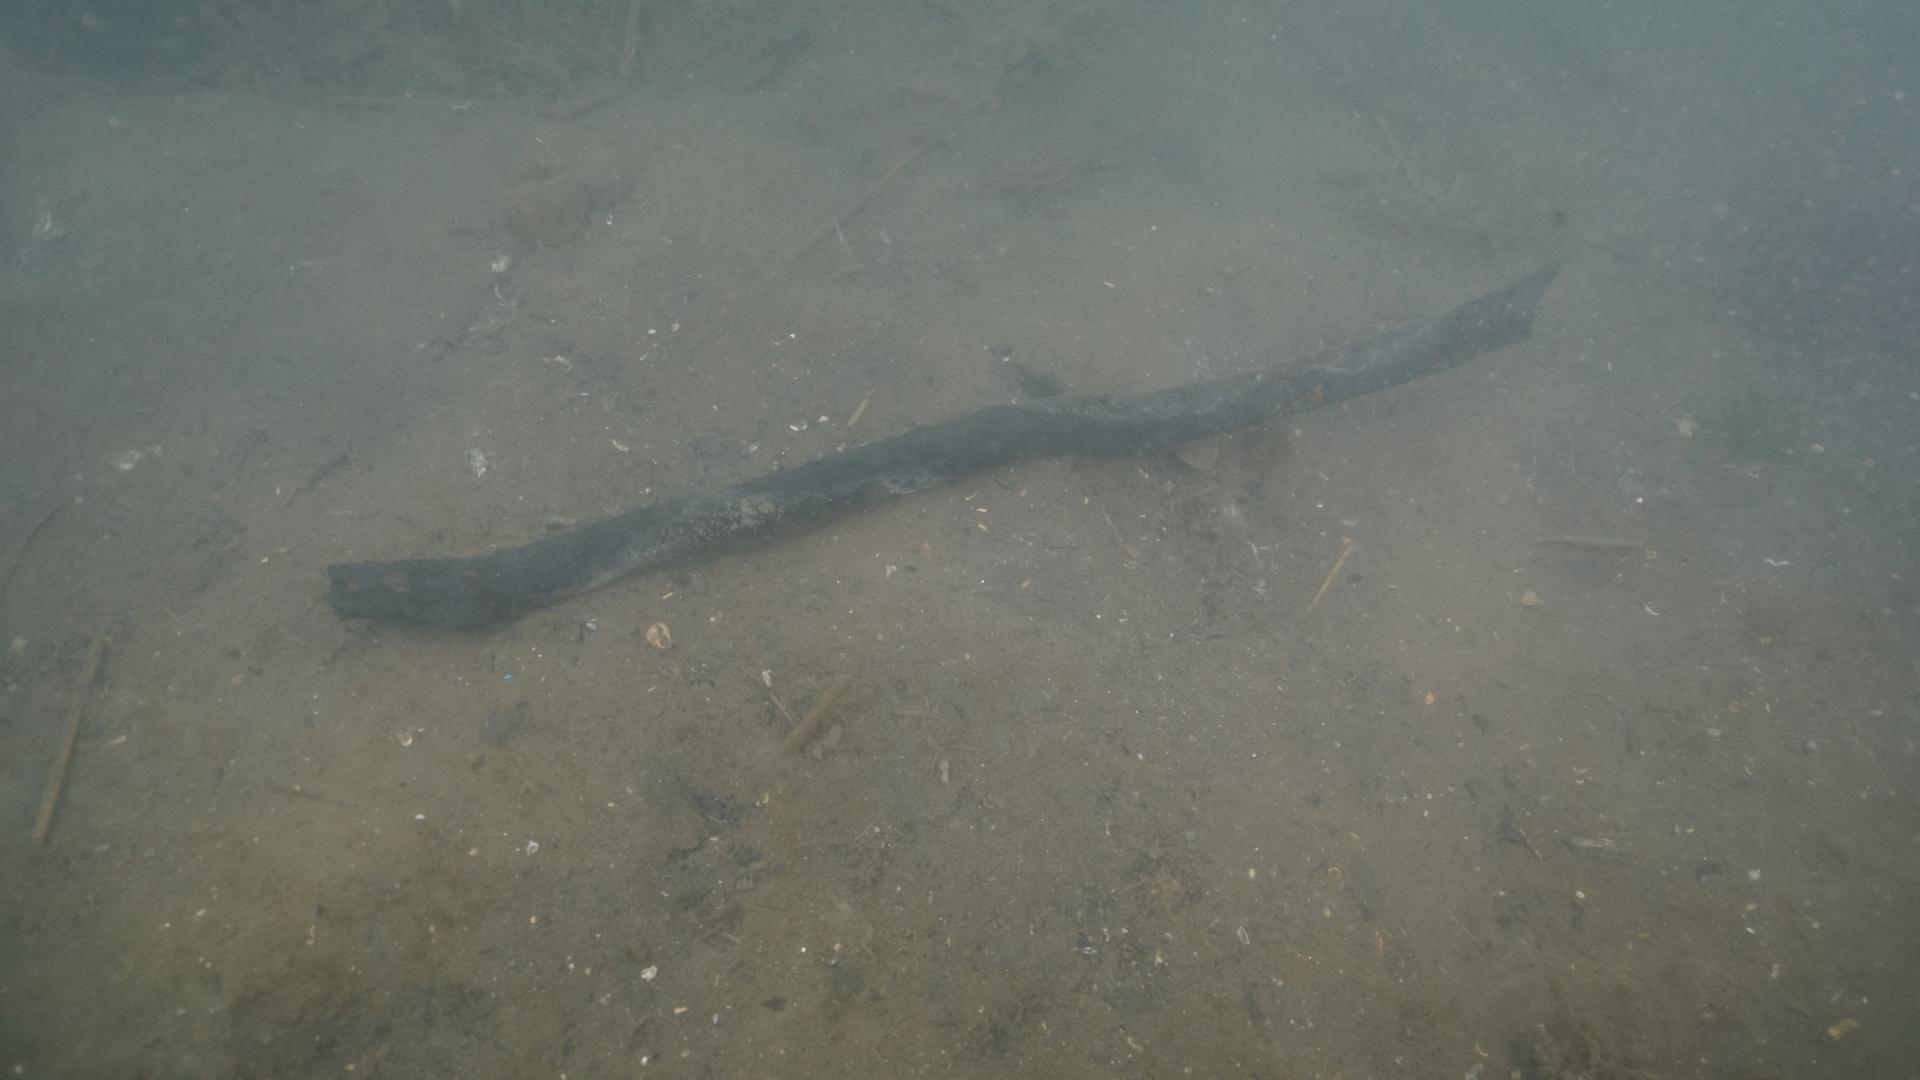wood: (320, 262, 1553, 642)
